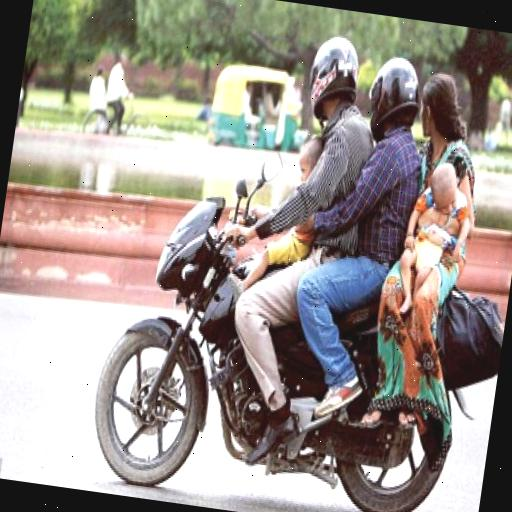helmet: (299, 24, 378, 142)
triple riding: (208, 0, 482, 501)
